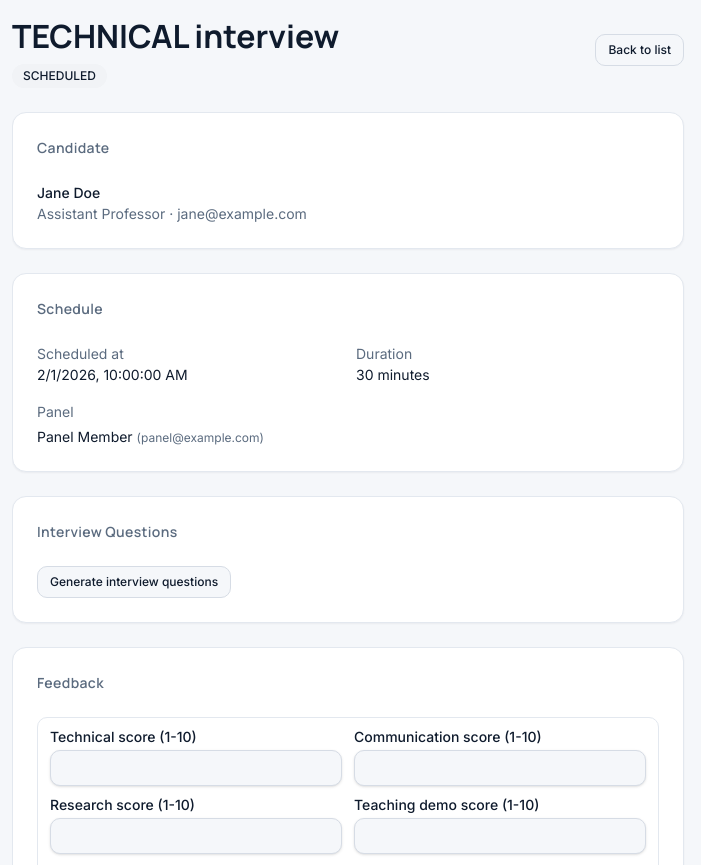
Test: InterviewDetailPage › shows Generate interview questions for an assigned panel member without write access, and renders results
Click the button "Generate interview questions". click: (134, 582)
box: [37, 566, 231, 598]
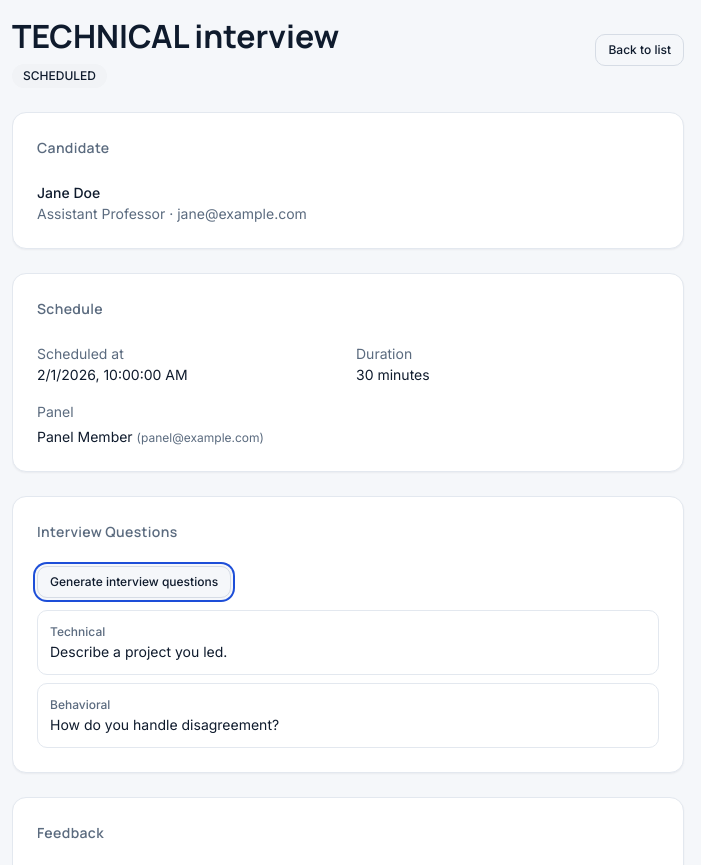
Check: the text "Describe a project you led." is shown, box [50, 643, 227, 660]
Check: the text "How do you handle disagreement?" is shown, box [50, 716, 279, 733]
